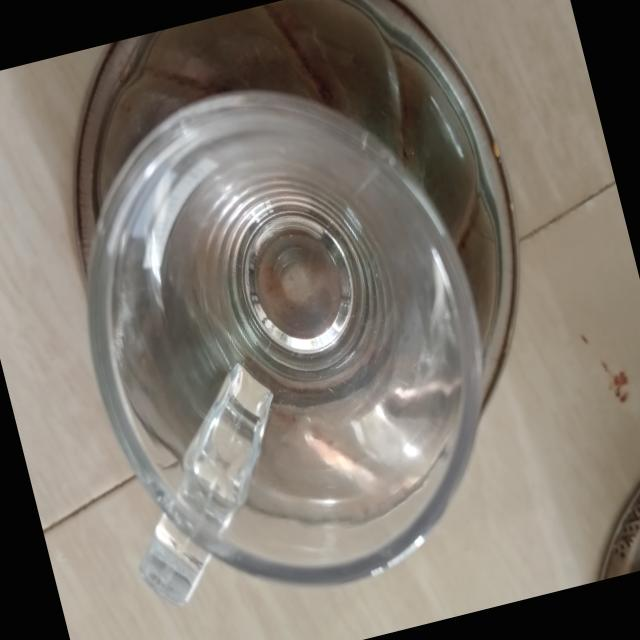glass-VX4N: (35, 42, 541, 640)
